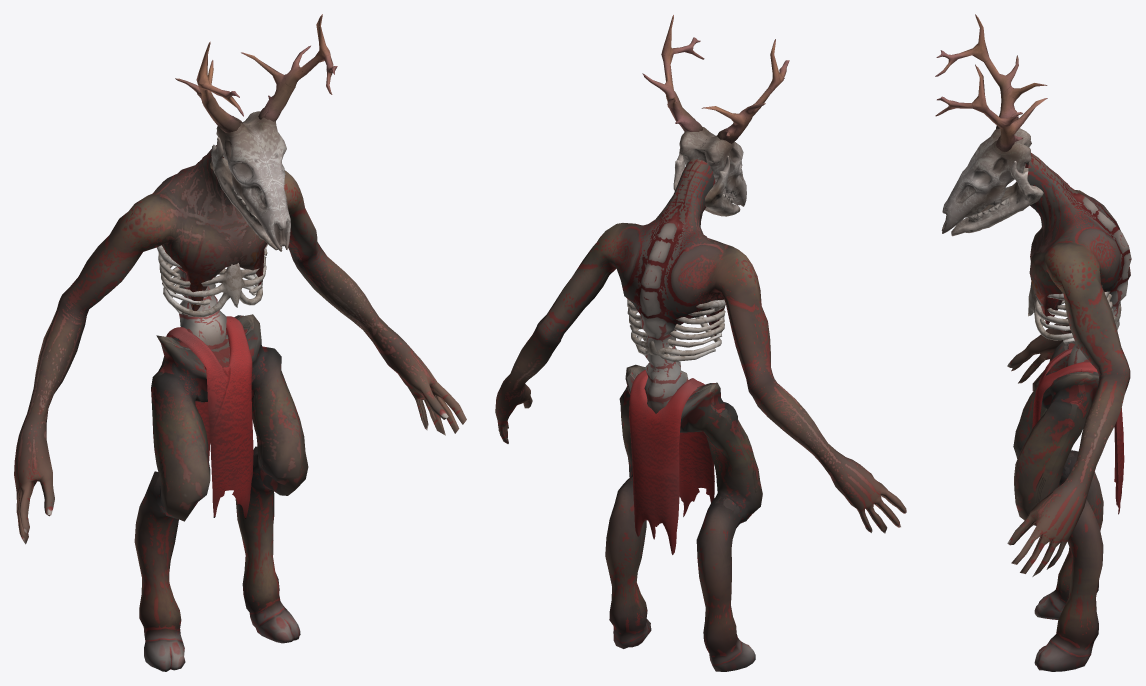
Rendered from wendigo.glb.
3 renders of one model, left to right at view 1: azimuth 30°, elevation 25°; view 2: azimuth 150°, elevation 25°; view 3: azimuth 270°, elevation 25°, orthographic. The views are drawn at different scales.
Visible parts, largest first — view 1: Object_4, Object_2, Object_3; view 2: Object_4, Object_2, Object_3; view 3: Object_4, Object_2, Object_3.
Part boxes in pixels (box(x1,y1,x2,y2)): Object_4: box(14, 145, 466, 671); Object_2: box(156, 14, 337, 317); Object_3: box(210, 137, 282, 250); Object_4: box(495, 159, 906, 671); Object_2: box(627, 15, 789, 361); Object_3: box(673, 154, 740, 216); Object_4: box(1007, 153, 1131, 671); Object_2: box(935, 14, 1121, 343); Object_3: box(951, 161, 1043, 236).
Bounding box in the file's own units: 161 × 227 × 67.04.
2 materials, 2 textured.
